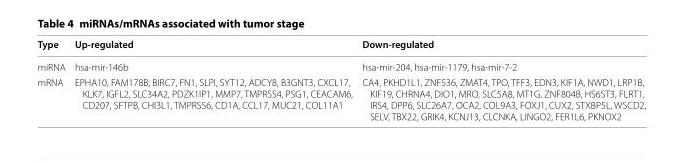table: (36, 37, 645, 121)
table column: (356, 37, 645, 121), (69, 37, 356, 121), (36, 37, 69, 121)
table column header: (36, 37, 645, 55)
table row: (36, 74, 645, 121), (36, 55, 645, 74), (36, 37, 645, 55)
